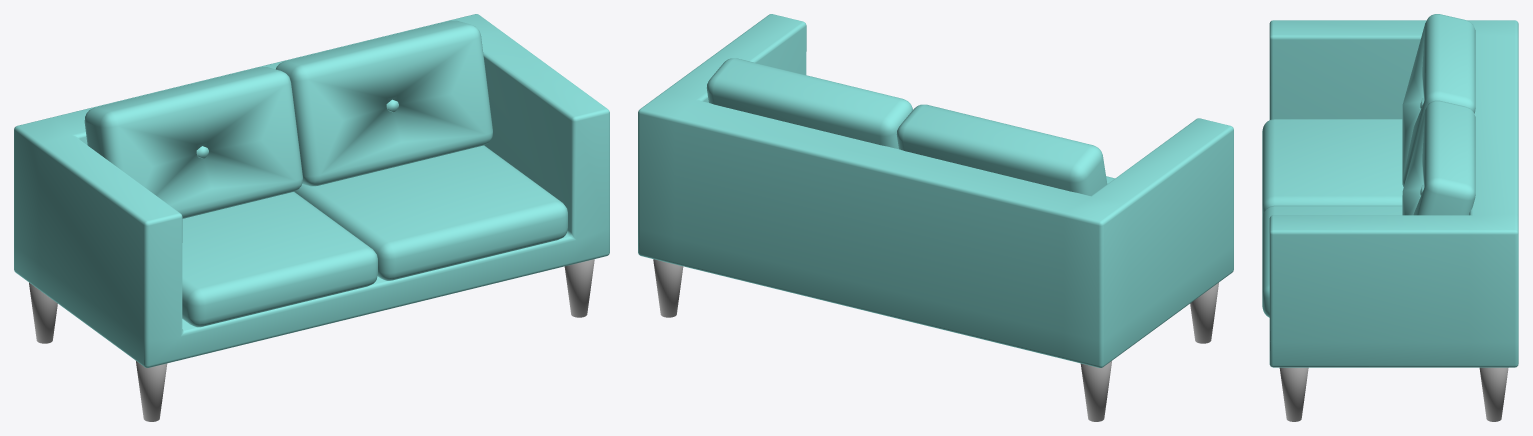
The model's file is sofa.glb.
3 renders of one model, left to right at view 1: azimuth 30°, elevation 25°; view 2: azimuth 150°, elevation 25°; view 3: azimuth 270°, elevation 25°, orthographic. The views are drawn at different scales.
Parts seen in each view (by area): view 1: Cube.002; view 2: Cube.002; view 3: Cube.002.
Part boxes in pixels (x1,y1,x2,y2): Cube.002: [14, 14, 609, 421]; Cube.002: [638, 14, 1233, 421]; Cube.002: [1262, 14, 1518, 421].
Bounding box in the file's own units: 1.94 × 0.959 × 0.9885.
